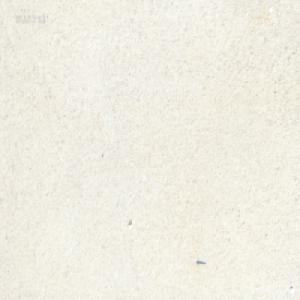Nail: (196, 258, 205, 264)
